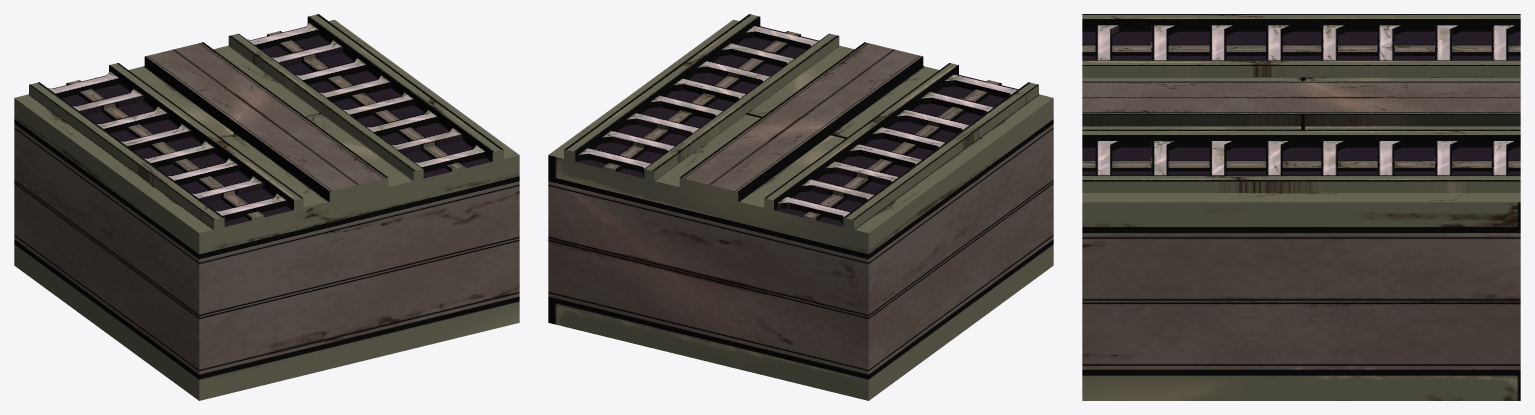
Rendered from floor1.fbx.
The picture shows the model from 3 angles, left to right: view 1: azimuth 30°, elevation 25°; view 2: azimuth 150°, elevation 25°; view 3: azimuth 270°, elevation 25°; orthographic projection. The views are drawn at different scales.
Visible parts, largest first — view 1: Cube; view 2: Cube; view 3: Cube.
Boxes of the visible parts, x1=… form: Cube: x1=14, y1=14, x2=519, y2=400; Cube: x1=548, y1=14, x2=1053, y2=400; Cube: x1=1082, y1=14, x2=1520, y2=400.
Size of the model in its own units: 200 by 106 by 200.
Materials: 1 (1 with a texture image).
